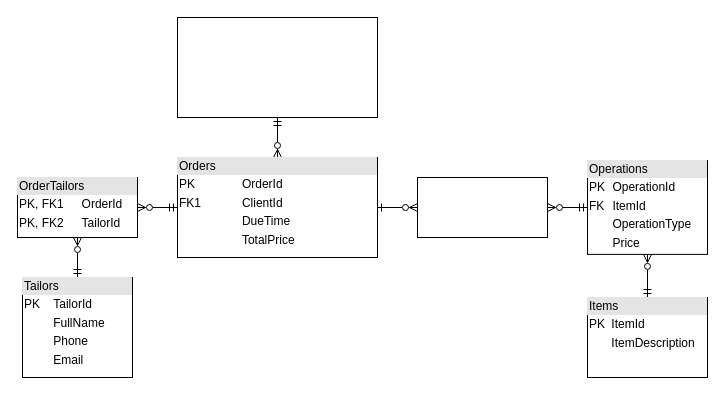
Some shapes in this 725 by 395 pixel diagram are drawn without their labels. The centre of each missing label's shape, as x and y in pixels:
Clients PK ClientId FullName Phone Name: point (277, 67)
OrderOperations PK, FK1 OrderId PK, FK2 OperationId: point (482, 207)
